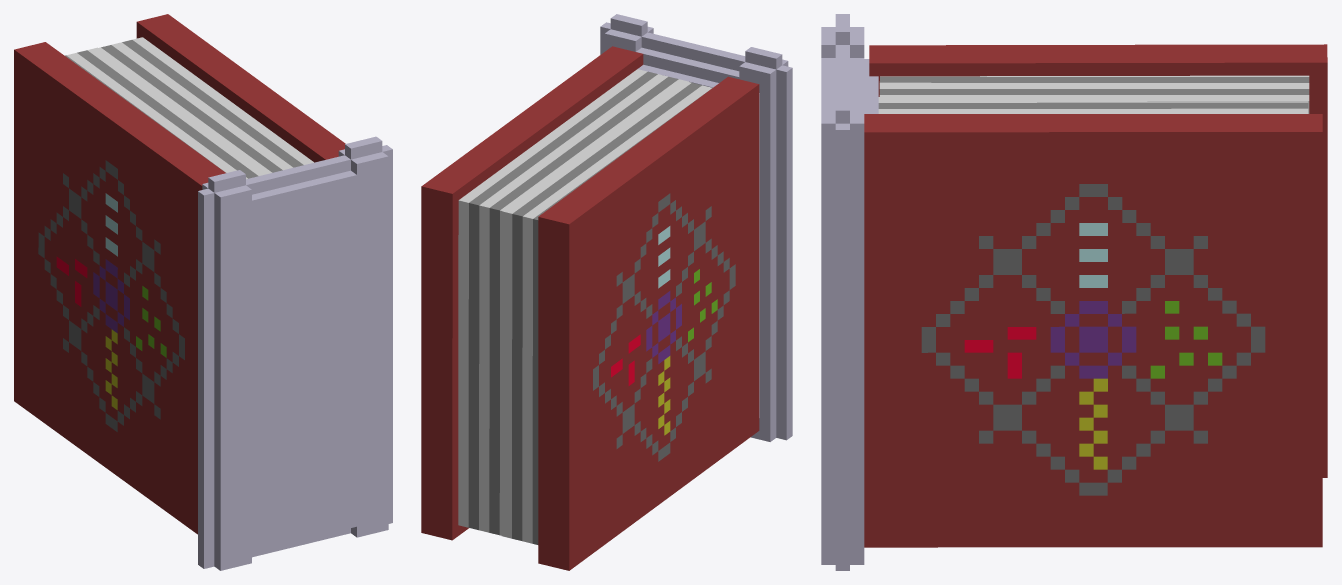
File: Book.fbx
3 renders of one model, left to right at view 1: azimuth 30°, elevation 25°; view 2: azimuth 150°, elevation 25°; view 3: azimuth 270°, elevation 25°, orthographic. The views are drawn at different scales.
Visible parts, largest first — view 1: Spine, Rcover, Lcover, Lpage, Rpage; view 2: Rcover, Lpage, Lcover, Spine, Rpage; view 3: Lcover, Spine, Rcover, Rpage, Lpage.
Part boxes in pixels (box(x1,y1,x2,y2)): Spine: box(198, 136, 392, 570); Rcover: box(14, 42, 225, 534); Lcover: box(136, 14, 345, 162); Lpage: box(99, 37, 313, 173); Rpage: box(65, 47, 268, 179); Rcover: box(538, 76, 759, 570); Lpage: box(458, 69, 688, 535); Lcover: box(421, 46, 643, 540); Spine: box(600, 14, 792, 441); Rpage: box(501, 80, 712, 544); Lcover: box(864, 114, 1322, 547); Spine: box(821, 14, 878, 570); Rcover: box(869, 44, 1327, 477); Rpage: box(879, 75, 1309, 113); Lpage: box(878, 97, 1308, 113).
Bounding box in the file's own units: 180 × 350 × 354.
